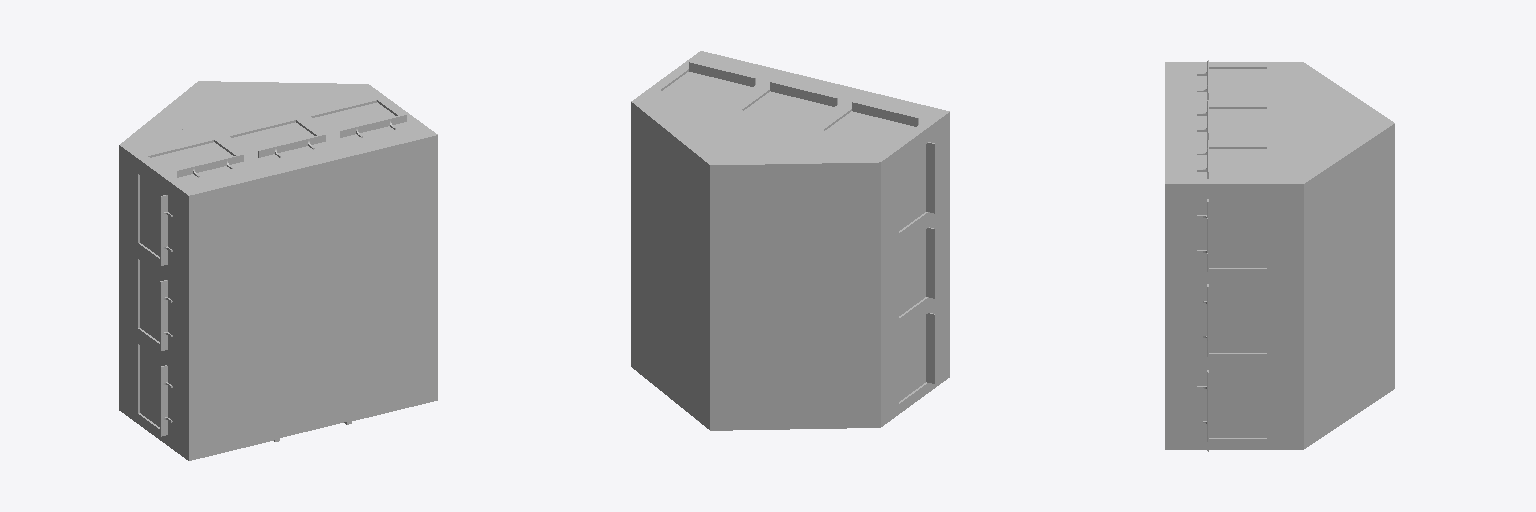
The model's file is house_texture.obj.
3 views of the same model, side by side, from view 1: azimuth 30°, elevation 25°; view 2: azimuth 150°, elevation 25°; view 3: azimuth 270°, elevation 25° (orthographic).
Visible parts, largest first — view 1: House; view 2: House; view 3: House.
Part boxes in pixels (bbox=[...]): House: bbox=[119, 81, 437, 460]; House: bbox=[631, 51, 949, 430]; House: bbox=[1165, 60, 1394, 451].
Bounding box in the file's own units: 15.8 × 16.05 × 12.